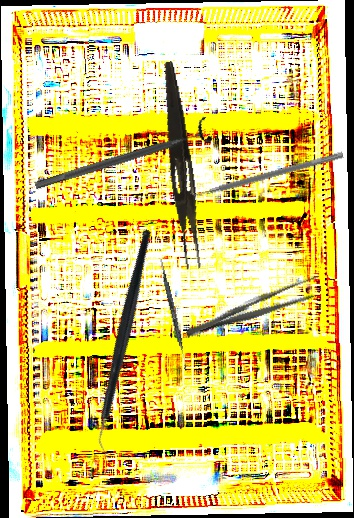Chopper: (27, 228, 225, 461)
Dressing Forceps: (152, 60, 210, 271), (182, 272, 325, 345)
Fixation Ring: (30, 115, 215, 200)
Spatula Surgical: (188, 144, 344, 202), (156, 258, 191, 370)
